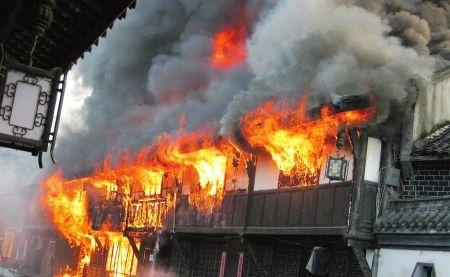fire: (247, 101, 321, 173), (168, 131, 219, 196), (101, 154, 165, 194), (47, 175, 83, 239)
yanwu: (77, 1, 412, 103)
